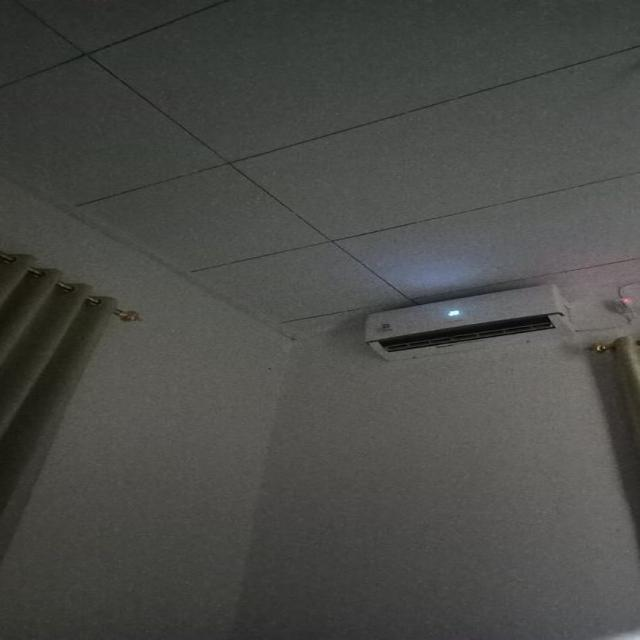AC: (362, 281, 574, 362)
